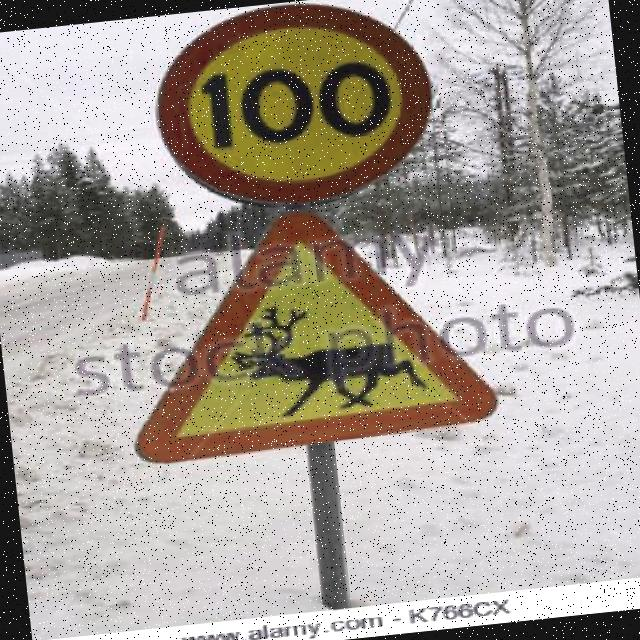Ograniczenie predkosci do 100: (156, 0, 441, 211)
